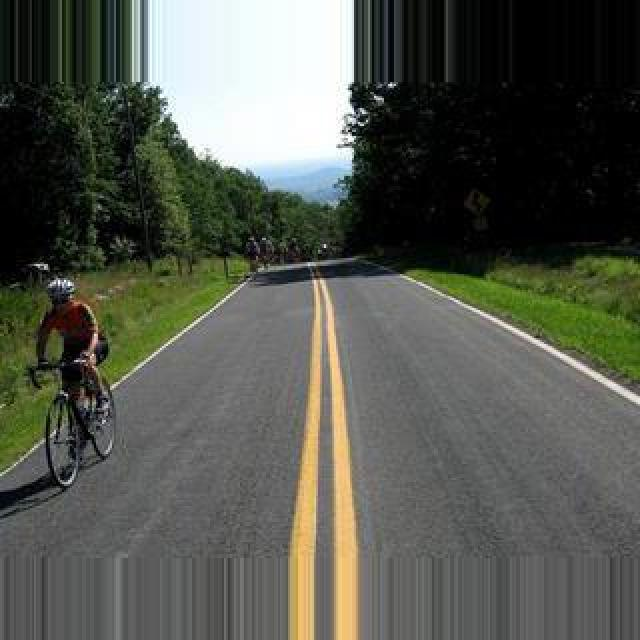MC-Bike: (34, 274, 110, 442), (244, 236, 260, 272)
Person: (30, 356, 116, 490)
